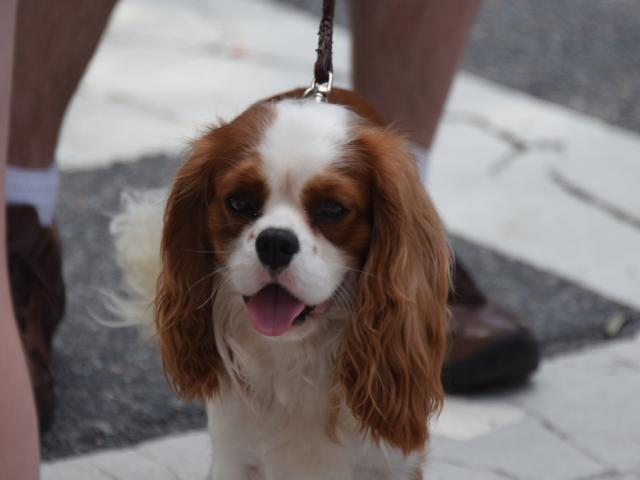Dog: (89, 85, 457, 480)
